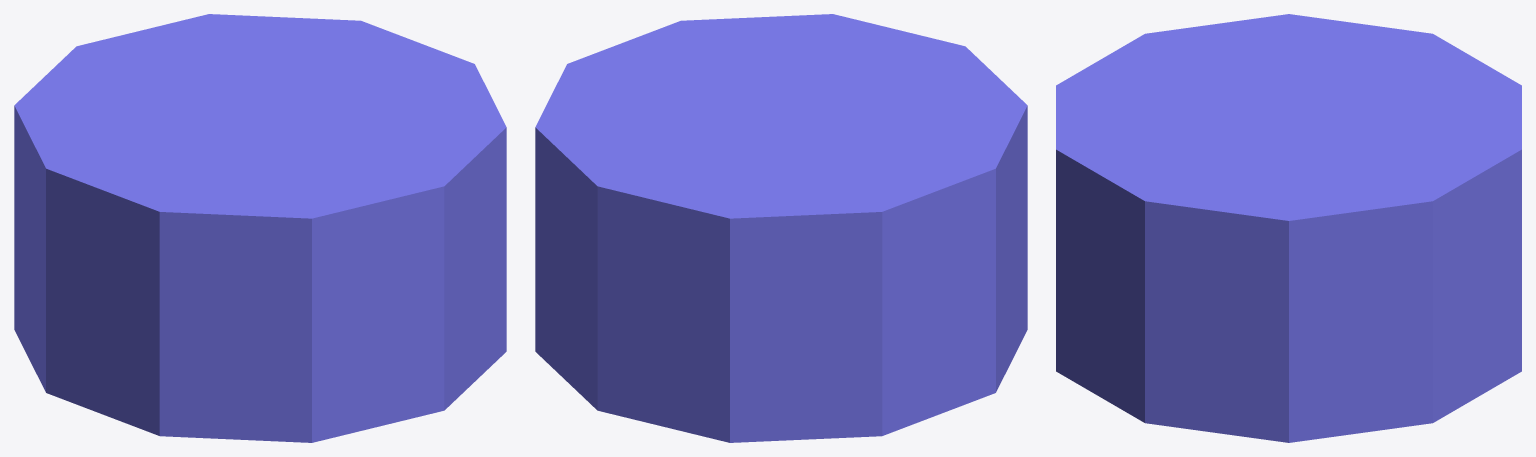
The model's file is Elements_Spatial_CellComplex_CellComplex.glb.
3 renders of one model, left to right at view 1: azimuth 30°, elevation 25°; view 2: azimuth 150°, elevation 25°; view 3: azimuth 270°, elevation 25°, orthographic.
Parts seen in each view (by area): view 1: 10db81aa-45c9-43c8-b2d3-4b2999738e68_mesh, d62dfd6e-7643-4e16-94ea-5c0685f88b11_mesh, 40f88462-06b8-40a2-a4e5-713ed647917b_mesh, ba9c3cf3-7c85-4ddd-b5ce-782e5fdc5388_mesh, 24934d42-1886-4864-95f5-61fbcc26716d_mesh, 242699b7-62e9-4910-9a34-a59b39152727_mesh, 608d1382-c50a-4651-ab28-a34443cef625_mesh, 9b90caa1-776c-4948-8d31-ac2faae1f206_mesh, f17562e9-abd3-4a59-8af8-1f53cd4f8369_mesh, 0945650b-3b6d-455e-a962-8d768abb6931_mesh, 52a4533a-7dd2-4215-8d14-9a57105a1749_mesh, bea6e1b8-7e3e-43df-8719-04bc9df322cd_mesh (+185 smaller); view 2: 6448d12c-8175-40ed-8bd5-fd2947a098ab_mesh, 76838690-532e-4982-b85b-8c240e44f754_mesh, 45875a3f-98d0-4f6f-a3a3-c0b640607c37_mesh, 7f06b995-5f13-4cf0-ba13-3e7a76a1fcf9_mesh, c4ac8f0b-340e-4302-b6a0-3f45c4396be3_mesh, 319f6fd7-6662-4aa8-a363-193a1bd53ef3_mesh, f9000728-2199-4d51-a0fc-f0fce4172cbf_mesh, 2bff335a-2470-49ee-9d2b-b91258f4ec23_mesh, 88452654-3401-47ad-bbf5-e6772bc75e59_mesh, 6953e5d5-cafe-428c-b9c6-541db240e3eb_mesh, a93ee4ff-8e03-4495-ba6e-dec85dddedb2_mesh, 5d3b3900-f175-4f6a-9b4a-4e3919f350d5_mesh (+176 smaller); view 3: 625083eb-263f-4e5c-8459-834c99f60281_mesh, 8968692d-c589-4573-835e-26b3224e9ea3_mesh, 39d696cb-3061-431a-a80a-b5ec4c033496_mesh, 36fa8826-ed3e-4845-a9a6-0d384d54b548_mesh, f286752f-16f7-461d-b0bb-01da2463425d_mesh, cd734155-59ce-4a44-8297-f0ce9d9442c3_mesh, e2d5e8b7-3416-44b0-b1a4-1431c292e106_mesh, 977277d9-ca41-4746-885d-09ee447fc80c_mesh, f381c539-3257-4223-a5da-b1c601ff51fb_mesh, 347e27d7-6c4e-41d1-969e-93fc147f45cc_mesh, 323b6c01-e49b-4e88-94f1-a91f7340c334_mesh, 53adadb9-37e7-46d4-958a-7f6af9d579b4_mesh (+166 smaller).
Part boxes in pixels (x1,y1,x2,y2): 10db81aa-45c9-43c8-b2d3-4b2999738e68_mesh: (162, 234, 223, 259); d62dfd6e-7643-4e16-94ea-5c0685f88b11_mesh: (162, 391, 223, 416); 40f88462-06b8-40a2-a4e5-713ed647917b_mesh: (162, 346, 223, 371); ba9c3cf3-7c85-4ddd-b5ce-782e5fdc5388_mesh: (162, 324, 223, 349); 24934d42-1886-4864-95f5-61fbcc26716d_mesh: (162, 279, 223, 304); 242699b7-62e9-4910-9a34-a59b39152727_mesh: (162, 301, 223, 326); 608d1382-c50a-4651-ab28-a34443cef625_mesh: (162, 369, 223, 393); 9b90caa1-776c-4948-8d31-ac2faae1f206_mesh: (162, 414, 223, 438); f17562e9-abd3-4a59-8af8-1f53cd4f8369_mesh: (162, 257, 223, 281); 0945650b-3b6d-455e-a962-8d768abb6931_mesh: (162, 212, 223, 236); 52a4533a-7dd2-4215-8d14-9a57105a1749_mesh: (228, 394, 284, 419); bea6e1b8-7e3e-43df-8719-04bc9df322cd_mesh: (228, 237, 284, 262); 6448d12c-8175-40ed-8bd5-fd2947a098ab_mesh: (772, 394, 818, 418); 76838690-532e-4982-b85b-8c240e44f754_mesh: (772, 371, 818, 396); 45875a3f-98d0-4f6f-a3a3-c0b640607c37_mesh: (772, 349, 818, 373); 7f06b995-5f13-4cf0-ba13-3e7a76a1fcf9_mesh: (772, 237, 818, 261); c4ac8f0b-340e-4302-b6a0-3f45c4396be3_mesh: (772, 327, 818, 351); 319f6fd7-6662-4aa8-a363-193a1bd53ef3_mesh: (772, 304, 818, 328); f9000728-2199-4d51-a0fc-f0fce4172cbf_mesh: (772, 282, 818, 306); 2bff335a-2470-49ee-9d2b-b91258f4ec23_mesh: (772, 416, 818, 440); 88452654-3401-47ad-bbf5-e6772bc75e59_mesh: (772, 259, 818, 283); 6953e5d5-cafe-428c-b9c6-541db240e3eb_mesh: (772, 214, 818, 238); a93ee4ff-8e03-4495-ba6e-dec85dddedb2_mesh: (904, 134, 971, 162); 5d3b3900-f175-4f6a-9b4a-4e3919f350d5_mesh: (879, 152, 946, 180); 625083eb-263f-4e5c-8459-834c99f60281_mesh: (1154, 269, 1202, 297); 8968692d-c589-4573-835e-26b3224e9ea3_mesh: (1203, 409, 1251, 437); 39d696cb-3061-431a-a80a-b5ec4c033496_mesh: (1154, 380, 1202, 408); 36fa8826-ed3e-4845-a9a6-0d384d54b548_mesh: (1301, 368, 1349, 396); f286752f-16f7-461d-b0bb-01da2463425d_mesh: (1350, 339, 1398, 367); cd734155-59ce-4a44-8297-f0ce9d9442c3_mesh: (1350, 317, 1398, 345); e2d5e8b7-3416-44b0-b1a4-1431c292e106_mesh: (1203, 298, 1251, 326); 977277d9-ca41-4746-885d-09ee447fc80c_mesh: (1301, 257, 1349, 285); f381c539-3257-4223-a5da-b1c601ff51fb_mesh: (1350, 228, 1398, 256); 347e27d7-6c4e-41d1-969e-93fc147f45cc_mesh: (1301, 212, 1349, 241); 323b6c01-e49b-4e88-94f1-a91f7340c334_mesh: (1350, 206, 1398, 234); 53adadb9-37e7-46d4-958a-7f6af9d579b4_mesh: (1154, 402, 1202, 430).
Size of the model in its own units: 20 by 10 by 19.02.
